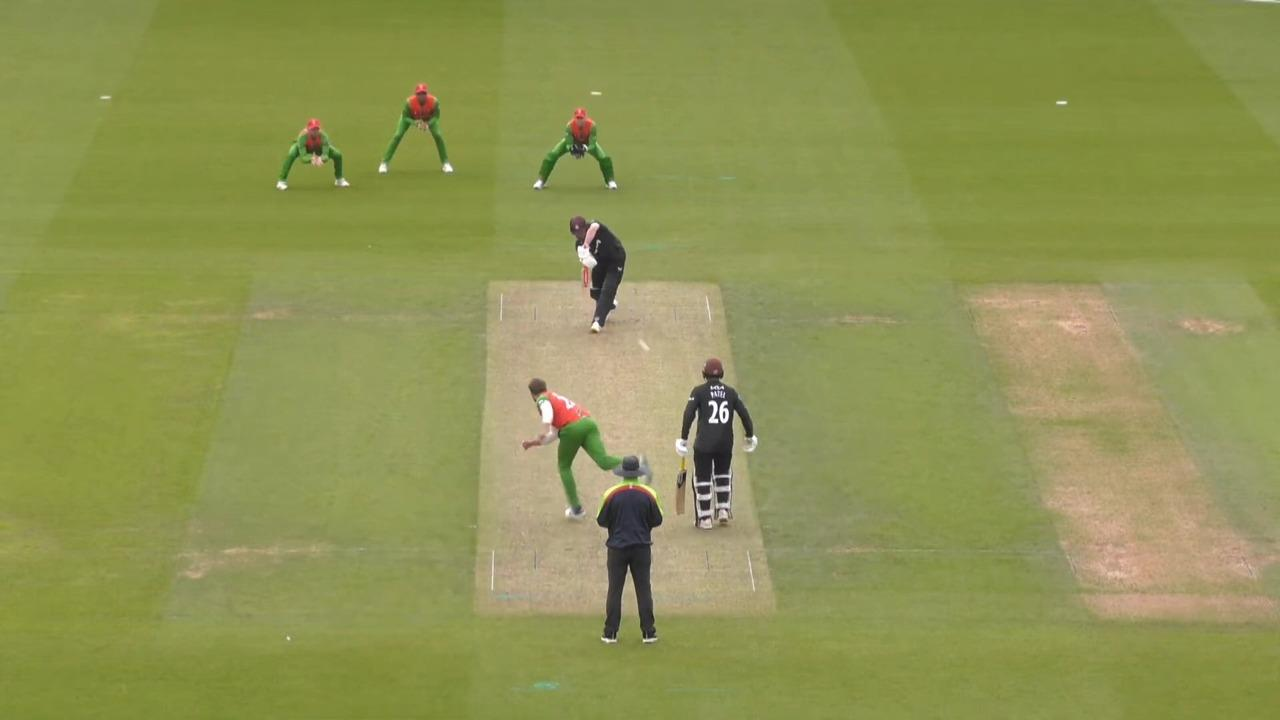sports ball: (637, 339, 651, 351)
